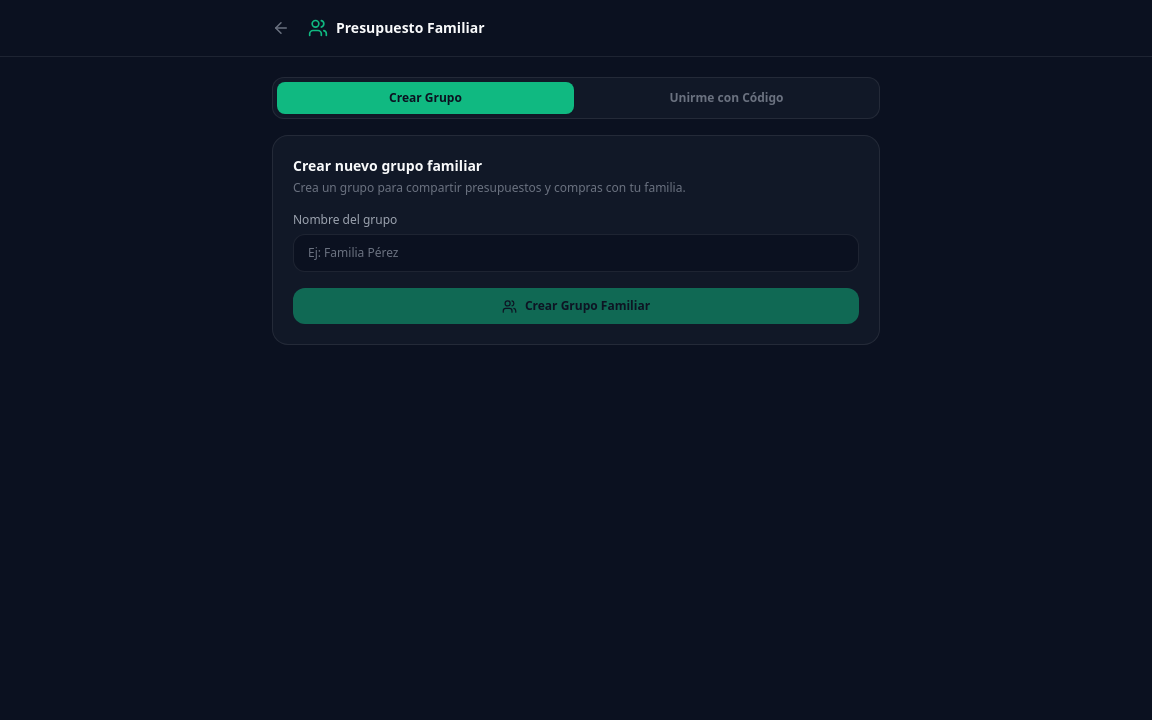
Test case: FamilyPage Component › creates family when form is submitted
Type "Familia Ramírez" into the field with placeholder "Ej: Familia Pérez" at (576, 253), box [293,234,859,272]
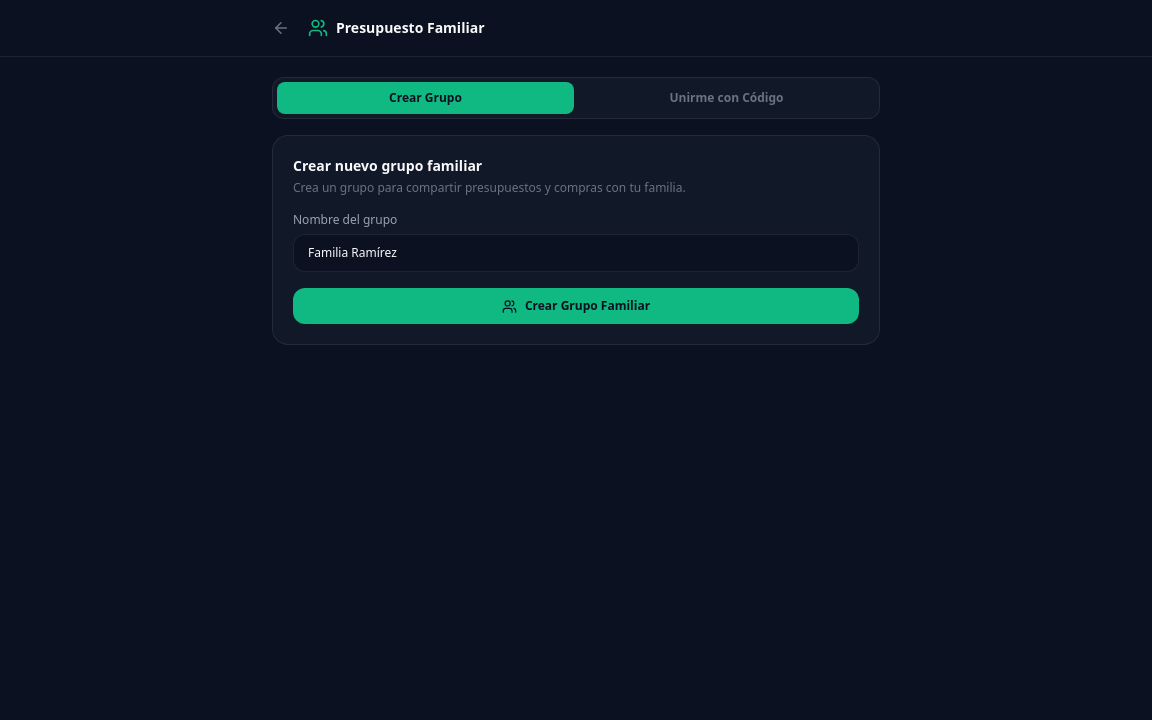
Click the button "Crear Grupo Familiar" at (576, 306), box [293,288,859,324]
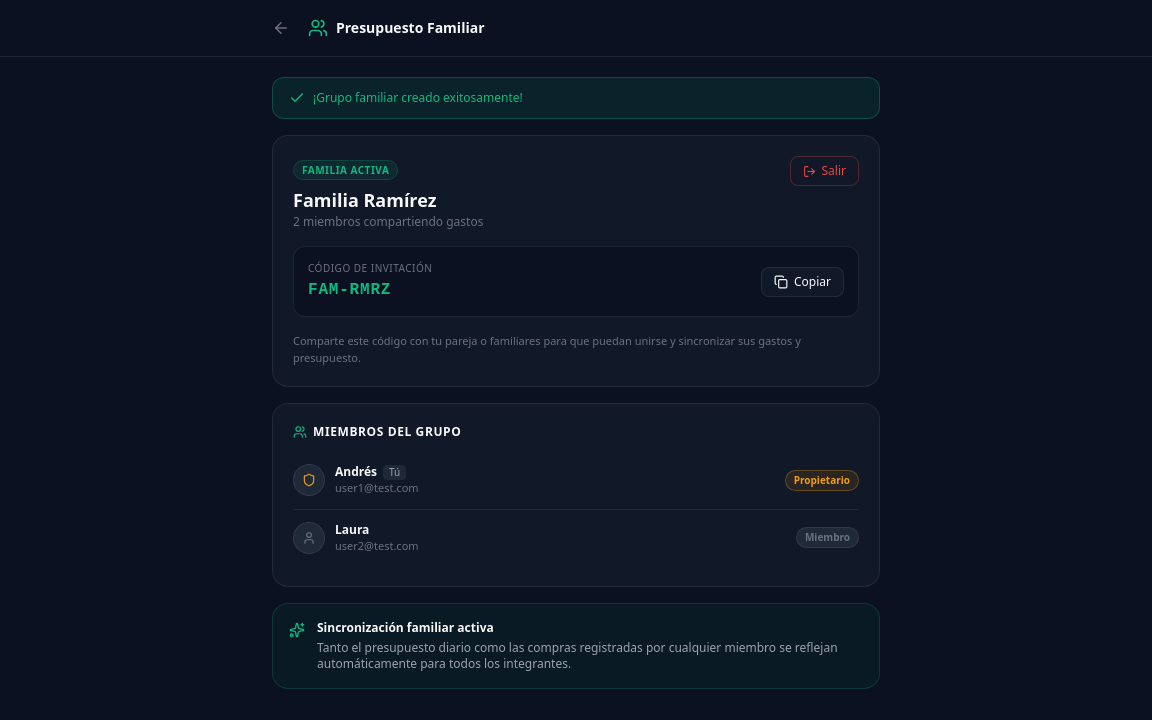
Expected: the text "¡Grupo familiar creado exitosamente!" is shown, [313,90,523,106]
Expected: the heading "Familia Ramírez" is shown, [293,188,436,212]
